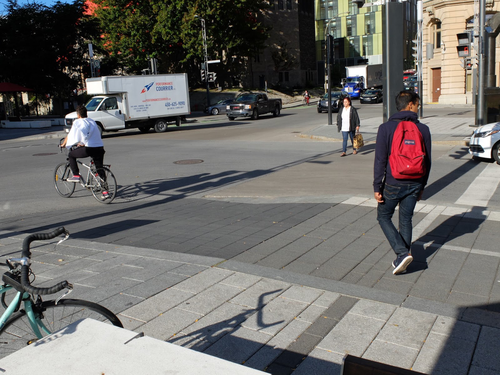bikerider: (55, 104, 120, 206)
